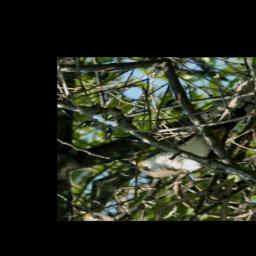Cuckoo: (121, 80, 256, 192)
